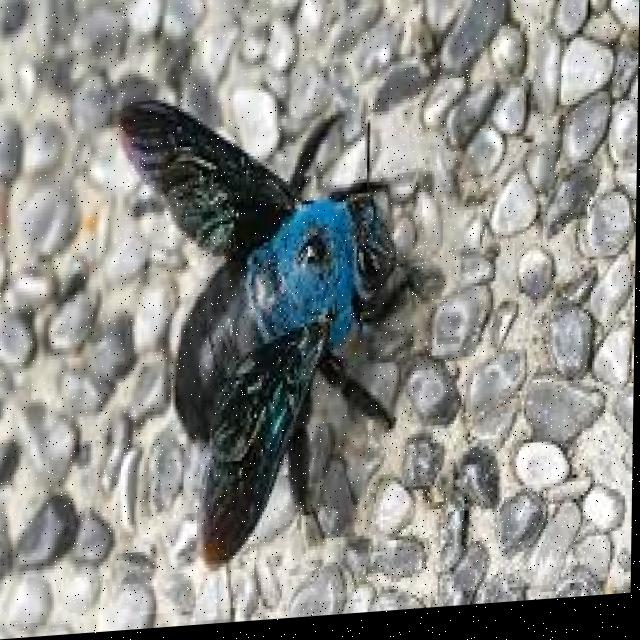Xylocopa: (107, 58, 419, 568)
